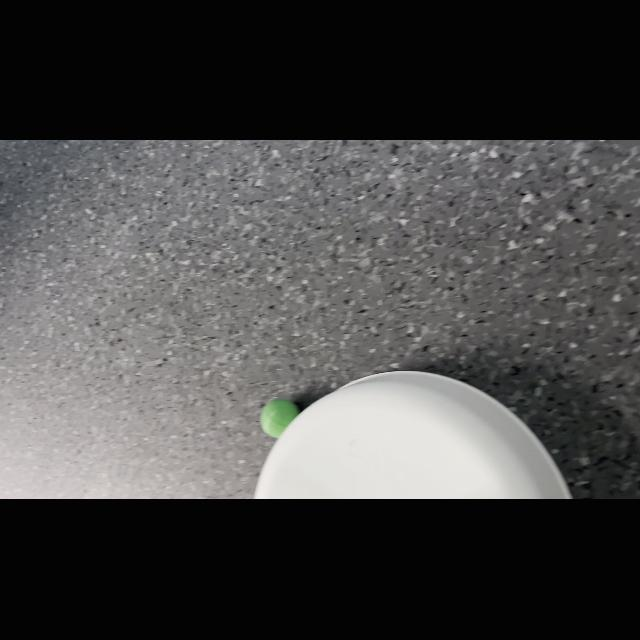objects: (258, 395, 302, 439)
